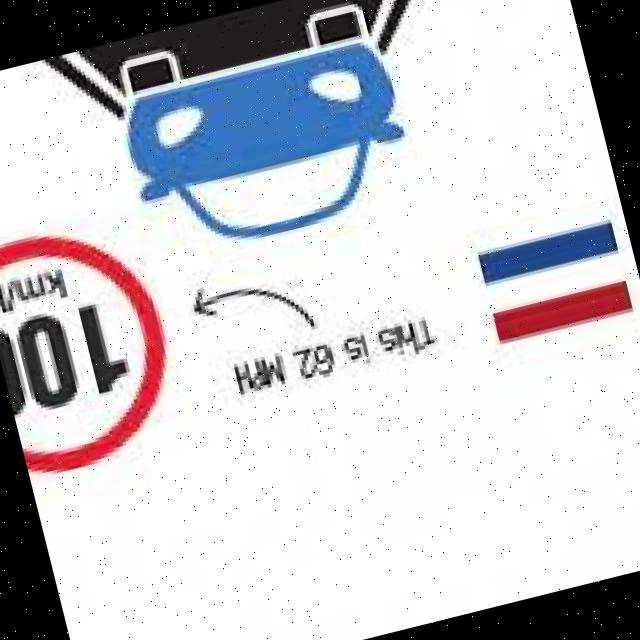speed_limit_100: (0, 208, 203, 489)
